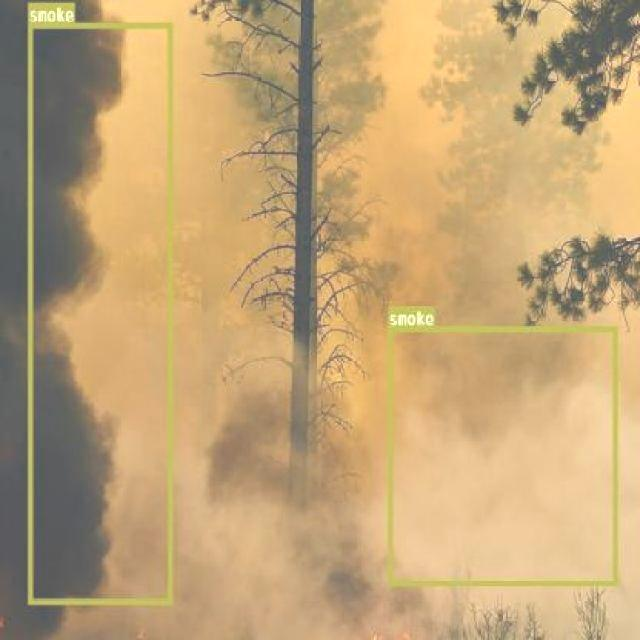smoke: (28, 21, 172, 604), (387, 326, 616, 584)
